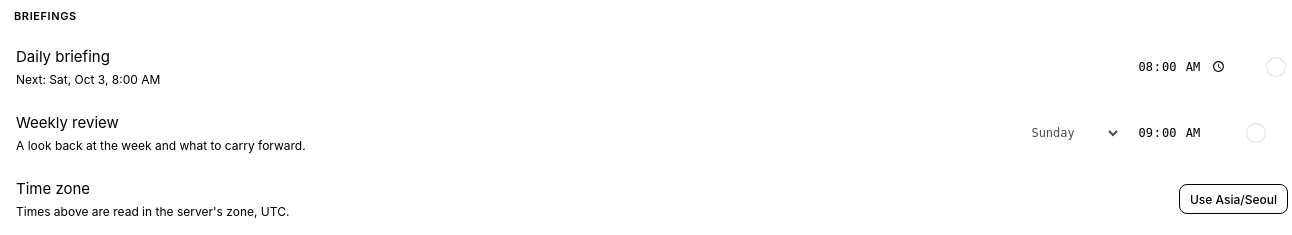
Test: Briefing schedule settings › keeps the weekly review controls disabled until it is switched on
Check: the time field showing "08:00" is shown, box [1129,51,1236,82]
Check: the dropdown named "Review day" is disabled, box [1019,119,1121,147]
Click the switch named "Weekly review": coordinates (1266, 133) [1244,121,1288,145]
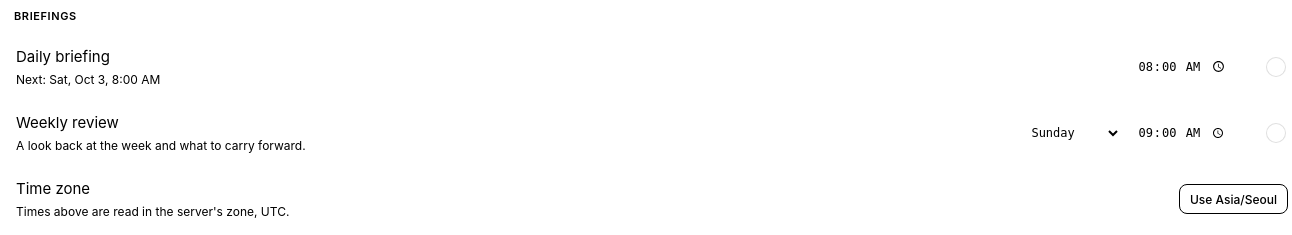
Check: the dropdown named "Review day" is enabled, box [1019,119,1121,147]
